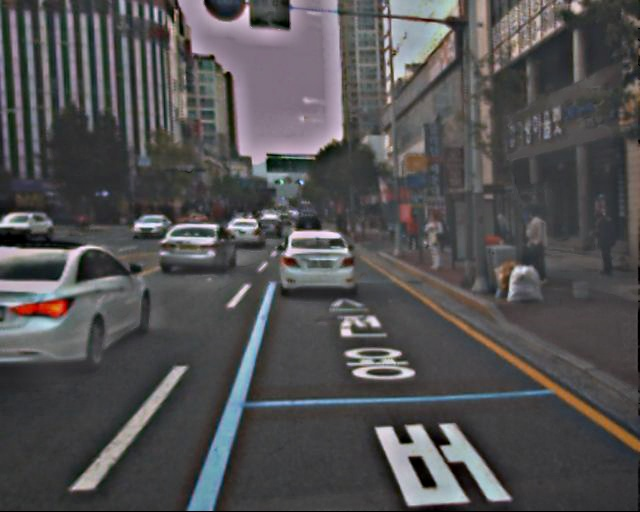person: (516, 207, 549, 288), (590, 209, 619, 279), (421, 210, 447, 273), (406, 213, 422, 253)
